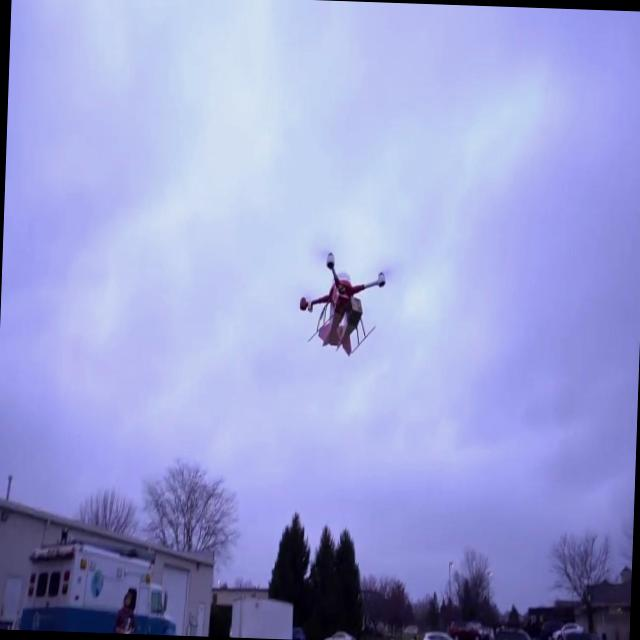drone: (296, 248, 390, 376)
